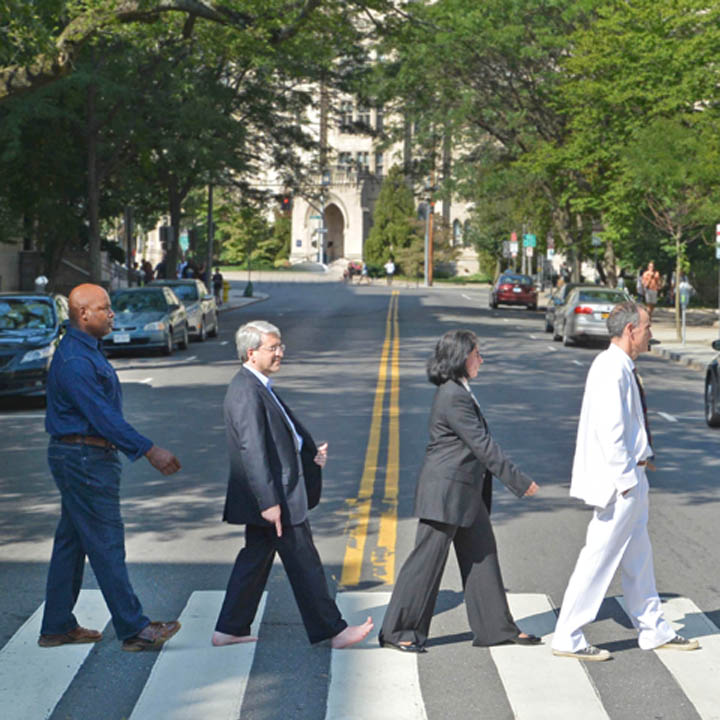pedestrian: (186, 311, 377, 652), (27, 276, 191, 656), (538, 303, 708, 661), (371, 324, 547, 651)
